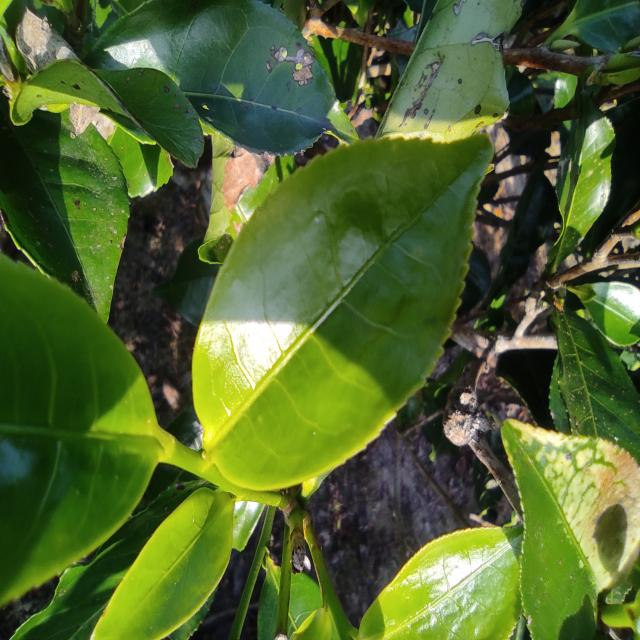Category B(2-4 days): (174, 106, 509, 504)
